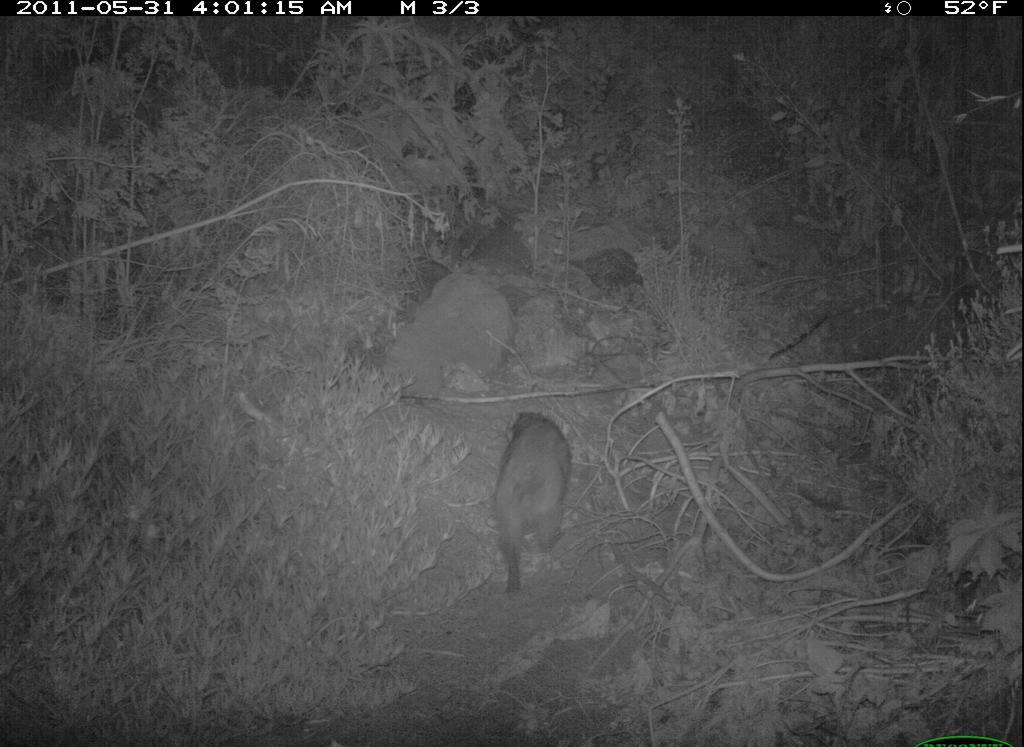raccoon: (480, 404, 576, 600)
